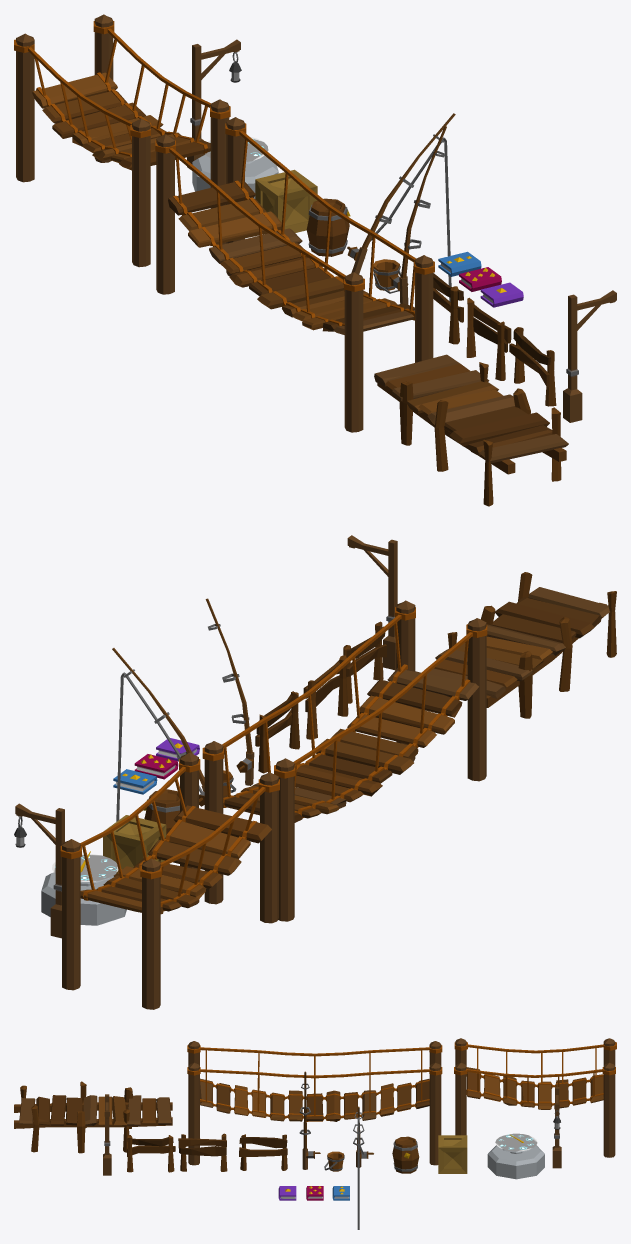
The model's file is human_props_-_stylized_low_poly_asset.glb.
3 views of the same model, one above another, from view 1: azimuth 30°, elevation 25°; view 2: azimuth 150°, elevation 25°; view 3: azimuth 270°, elevation 25° (orthographic). The views are drawn at different scales.
Parts seen in each view (by area): view 1: Long_bridge, Short_bridge, Pontoon, Crate, Lamp_2, Rod_1, Barrel, Fence_1, Fence_3, Lamp_1, Sundial, Rod_2 (+5 smaller); view 2: Long_bridge, Short_bridge, Pontoon, Sundial, Crate, Lamp_1, Lamp_2, Rod_1, Fence_2, Fence_1, Rod_2, Fence_3 (+3 smaller); view 3: Long_bridge, Short_bridge, Pontoon, Sundial, Crate, Fence_1, Fence_2, Fence_3, Barrel, Rod_1, Rod_2, Lamp_1 (+3 smaller).
Part boxes in pixels (bbox=[...]): Long_bridge: bbox=[155, 117, 434, 432]; Short_bridge: bbox=[14, 14, 230, 267]; Pontoon: bbox=[374, 354, 568, 506]; Crate: bbox=[255, 169, 317, 232]; Lamp_2: bbox=[563, 290, 616, 422]; Rod_1: bbox=[347, 113, 455, 301]; Barrel: bbox=[306, 198, 350, 256]; Fence_1: bbox=[466, 297, 511, 380]; Fence_3: bbox=[509, 327, 556, 406]; Lamp_1: bbox=[187, 39, 241, 170]; Sundial: bbox=[192, 136, 278, 198]; Rod_2: bbox=[389, 126, 446, 304]; Long_bridge: bbox=[202, 600, 487, 921]; Short_bridge: bbox=[60, 752, 279, 1009]; Pontoon: bbox=[427, 572, 616, 718]; Sundial: bbox=[41, 851, 126, 925]; Crate: bbox=[103, 815, 166, 873]; Lamp_1: bbox=[14, 803, 64, 938]; Lamp_2: bbox=[347, 535, 397, 670]; Rod_1: bbox=[112, 648, 204, 821]; Fence_2: bbox=[255, 691, 299, 773]; Fence_1: bbox=[303, 655, 348, 739]; Rod_2: bbox=[205, 598, 254, 785]; Fence_3: bbox=[343, 621, 386, 703]; Long_bridge: bbox=[187, 1041, 442, 1165]; Short_bridge: bbox=[454, 1038, 616, 1157]; Pontoon: bbox=[14, 1081, 172, 1153]; Sundial: bbox=[487, 1133, 544, 1179]; Crate: bbox=[438, 1135, 467, 1173]; Fence_1: bbox=[178, 1133, 227, 1171]; Fence_2: bbox=[239, 1134, 287, 1170]; Fence_3: bbox=[127, 1135, 175, 1172]; Barrel: bbox=[392, 1136, 419, 1173]; Rod_1: bbox=[353, 1106, 373, 1229]; Rod_2: bbox=[299, 1071, 320, 1169]; Lamp_1: bbox=[552, 1087, 561, 1168].
Bounding box in the file's own units: 1.04 × 0.8832 × 3.37.
Materials: 1 (1 with a texture image).
